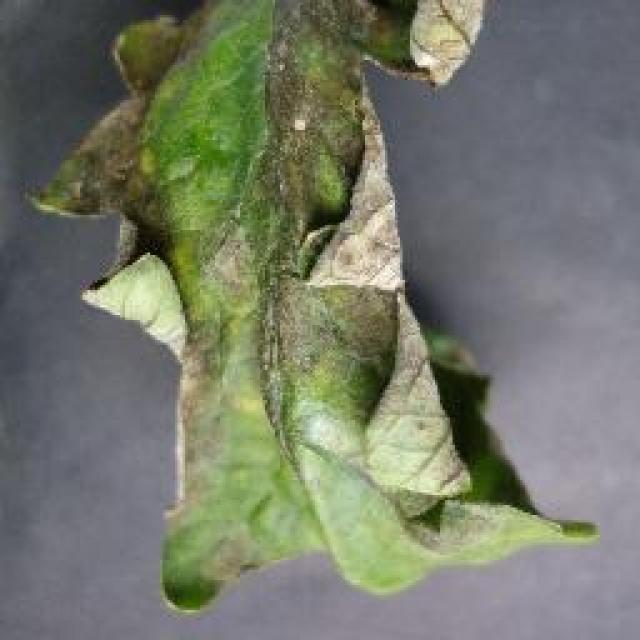Tomato late blight leaf: (34, 15, 598, 610)
